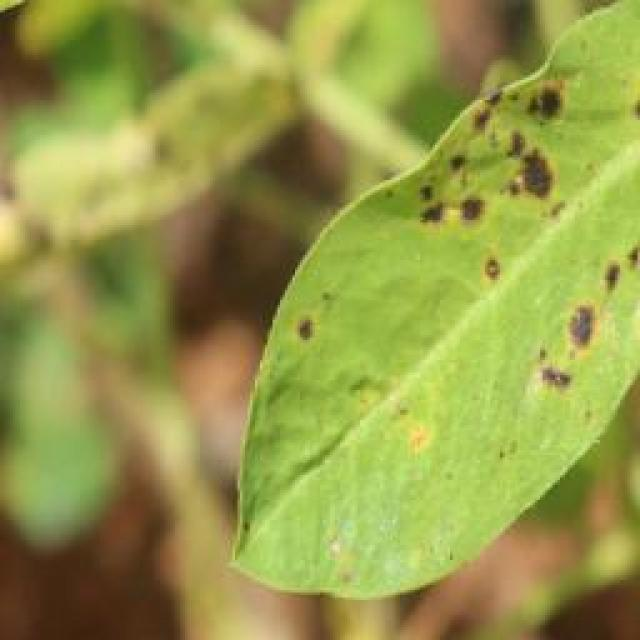Yellowish: (284, 30, 640, 490)
